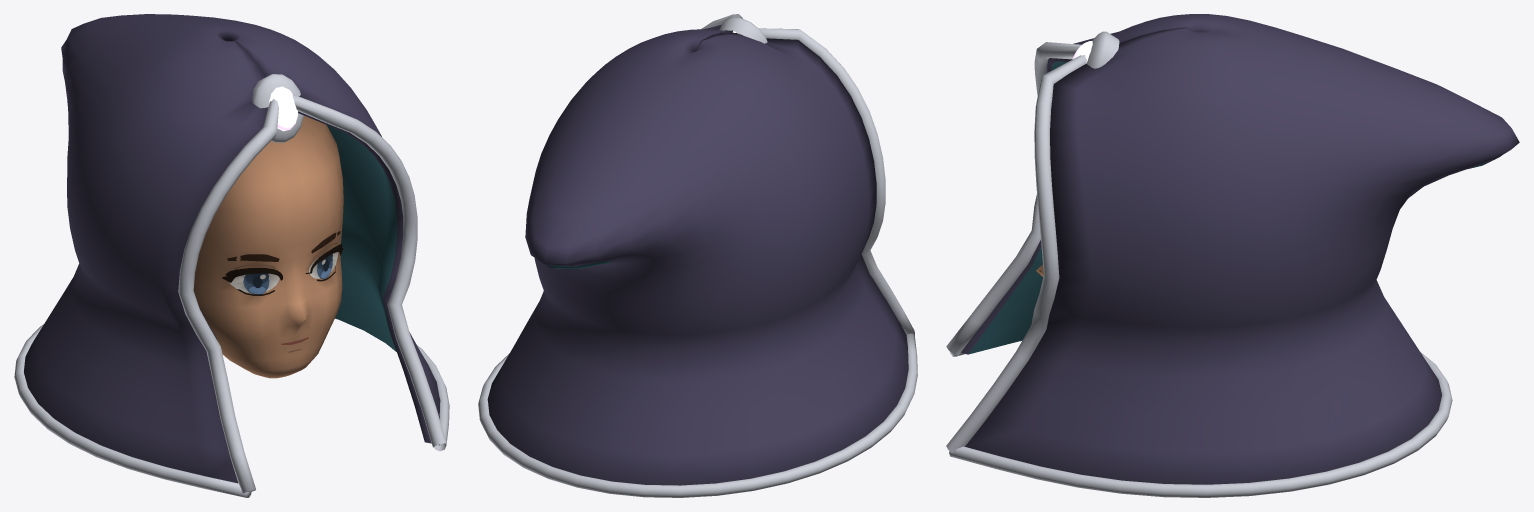
Rendered from h_oracle.glb.
3 views of the same model, side by side, from view 1: azimuth 30°, elevation 25°; view 2: azimuth 150°, elevation 25°; view 3: azimuth 270°, elevation 25° (orthographic). The views are drawn at different scales.
Visible parts, largest first — view 1: Hood, HeadMesh, LashR; view 2: Hood; view 3: Hood.
Boxes of the visible parts, x1=… form: Hood: x1=14, y1=14, x2=449, y2=497; HeadMesh: x1=193, y1=115, x2=343, y2=378; LashR: x1=222, y1=268, x2=282, y2=295; Hood: x1=478, y1=14, x2=917, y2=497; Hood: x1=946, y1=14, x2=1519, y2=497.
Bounding box in the file's own units: 0.3768 × 0.3547 × 0.4861.
